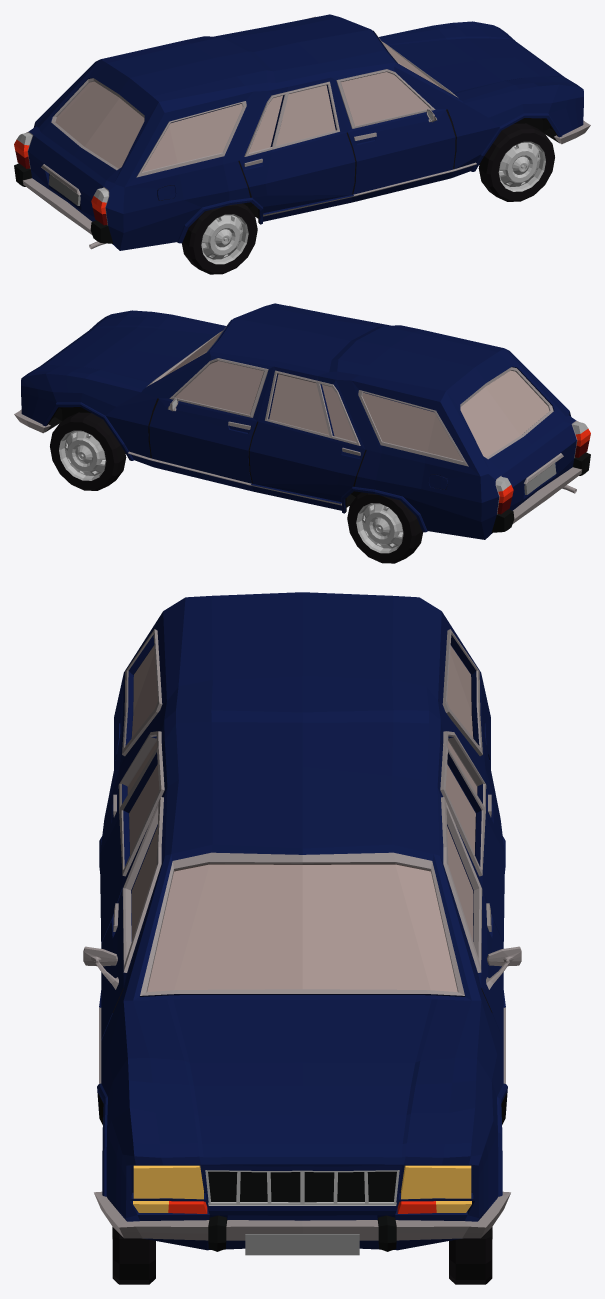
File: 504LowPolyRenderV2.obj
The picture shows the model from 3 angles, top to bottom: view 1: azimuth 30°, elevation 25°; view 2: azimuth 150°, elevation 25°; view 3: azimuth 270°, elevation 25°; orthographic projection. The views are drawn at different scales.
Visible parts, largest first — view 1: car_Cube.003, wheel_Cube.002; view 2: car_Cube.003, wheel.001_Cube.004; view 3: car_Cube.003, wheel_Cube.002, wheel.001_Cube.004.
Boxes of the visible parts, x1=… form: car_Cube.003: x1=14, y1=14, x2=590, y2=274; wheel_Cube.002: x1=478, y1=123, x2=554, y2=201; car_Cube.003: x1=14, y1=303, x2=590, y2=563; wheel.001_Cube.004: x1=50, y1=412, x2=126, y2=490; car_Cube.003: x1=83, y1=592, x2=521, y2=1255; wheel_Cube.002: x1=112, y1=1227, x2=155, y2=1284; wheel.001_Cube.004: x1=449, y1=1227, x2=492, y2=1284.
Bounding box in the file's own units: 12.52 × 4.23 × 4.83.
